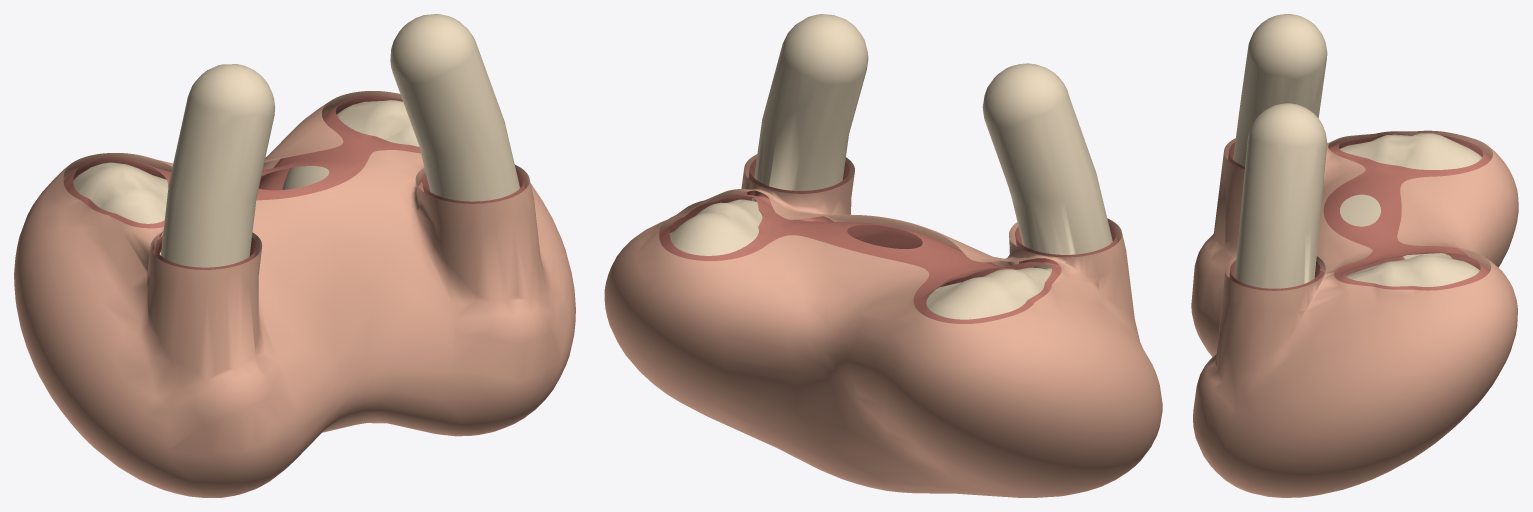
File: dog.glb
3 renders of one model, left to right at view 1: azimuth 30°, elevation 25°; view 2: azimuth 150°, elevation 25°; view 3: azimuth 270°, elevation 25°, orthographic. The views are drawn at different scales.
Parts seen in each view (by area): view 1: skin__M, external_sf__R, external_sf__L, dartos__M; view 2: skin__M, external_sf__R, external_sf__L, dartos__M; view 3: skin__M, external_sf__L, external_sf__R, dartos__M.
Part boxes in pixels (x1,y1,x2,y2): skin__M: (14,91,575,497); external_sf__R: (73,64,275,267); external_sf__L: (282,14,519,201); dartos__M: (63,95,525,269); skin__M: (604,154,1162,497); external_sf__R: (926,63,1112,319); external_sf__L: (669,14,868,255); dartos__M: (659,158,1118,323); skin__M: (1191,130,1518,497); external_sf__L: (1234,103,1479,288); external_sf__R: (1233,14,1482,259); dartos__M: (1228,134,1491,290).
Size of the model in its own units: 0.065 by 0.0507 by 0.0405.
